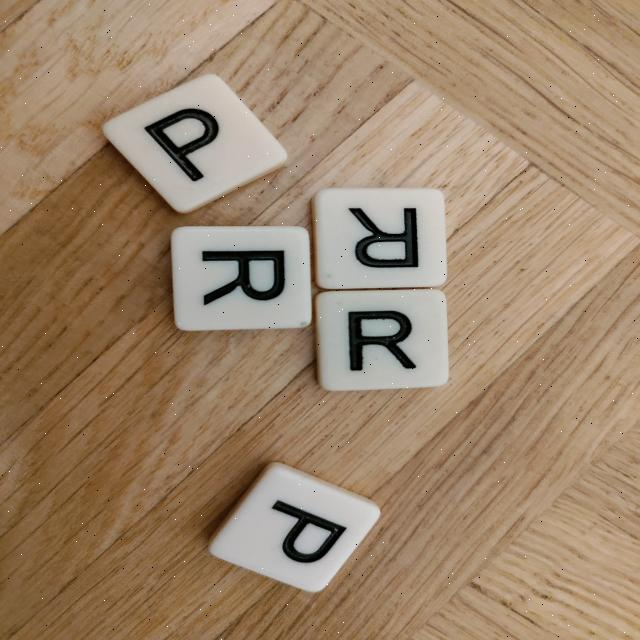p: (97, 70, 293, 217), (201, 459, 386, 597)
r: (169, 226, 311, 330), (310, 187, 449, 289), (316, 289, 449, 392)
